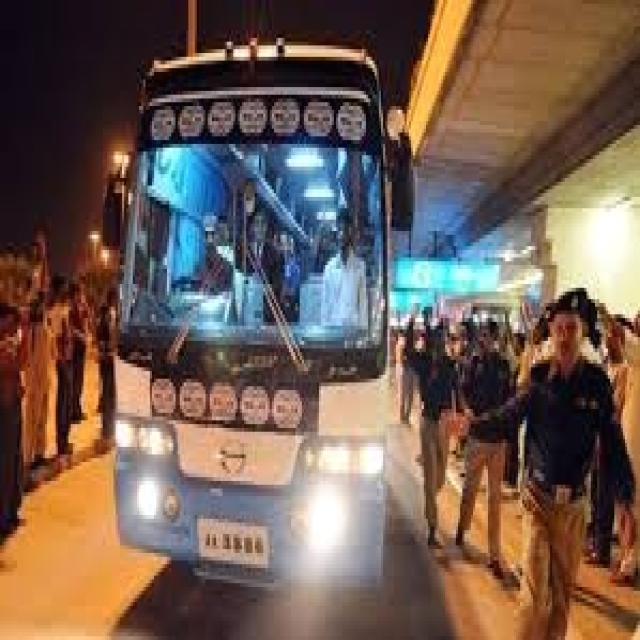bus: (93, 27, 436, 615)
